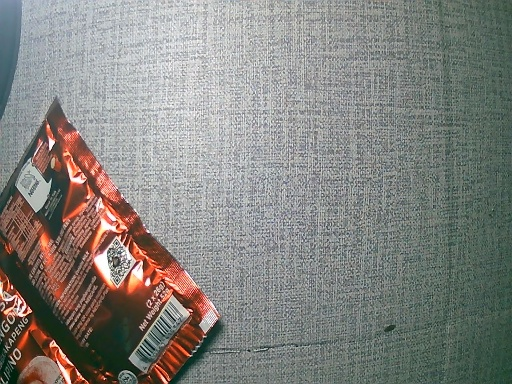plastic: (1, 96, 221, 384)
